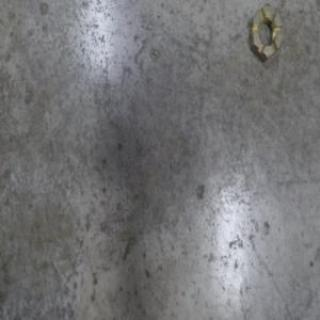Nuttrack_idkeyframe: (247, 5, 283, 67)
